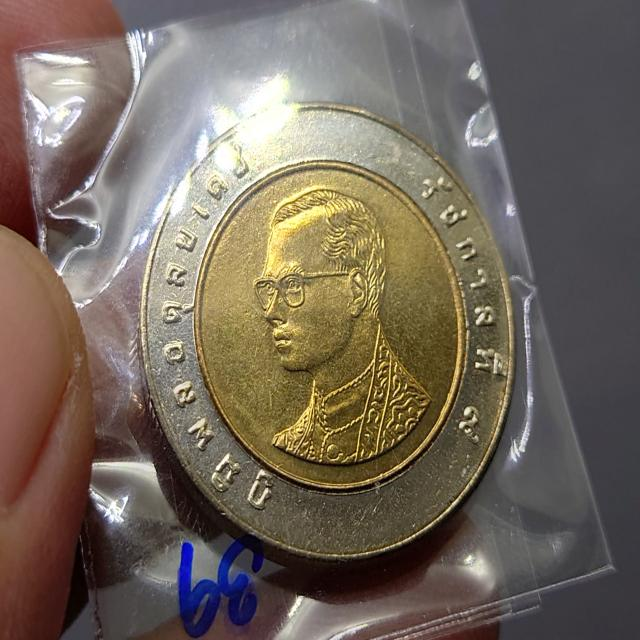10 Bath: (140, 101, 518, 581)
